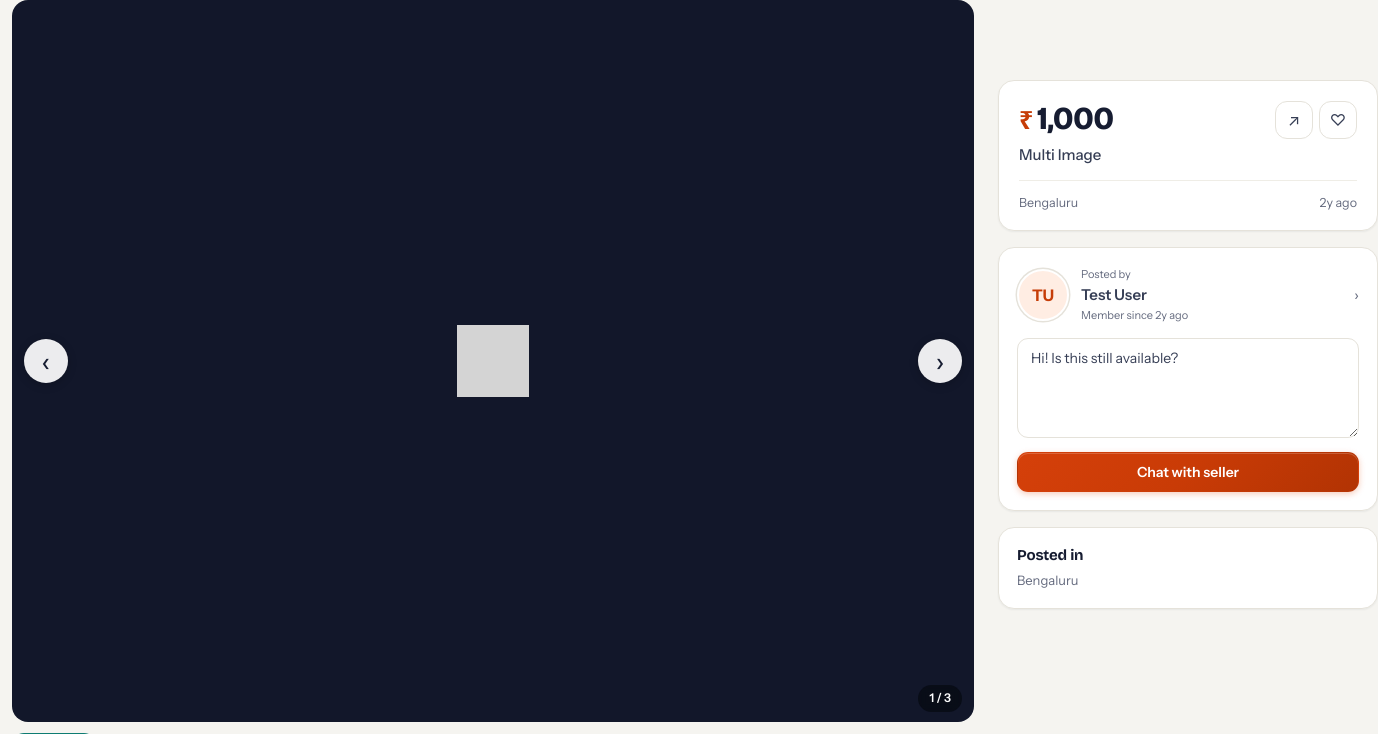
Scenario: ListingDetails › gallery prev/next controls change the active image
Expected: the text "Multi Image" is shown, [1019,145,1101,164]
Expected: the text "1 / 3" is shown, [918,685,962,712]
Click the button named "Next image" at x=940, y=361, box [918,339,962,383]
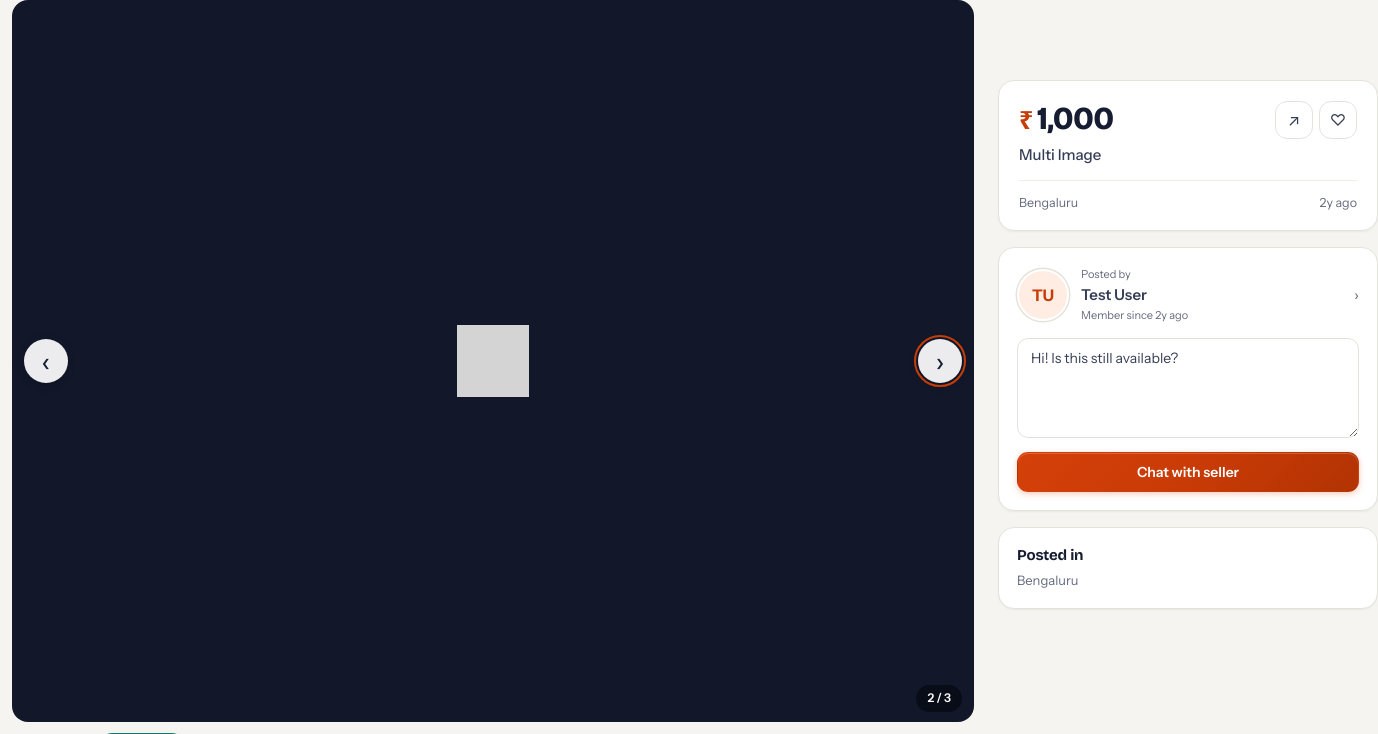
Expected: the text "2 / 3" is shown, [916,685,962,712]
Click the button named "Previous image" at x=46, y=361, box [24,339,68,383]
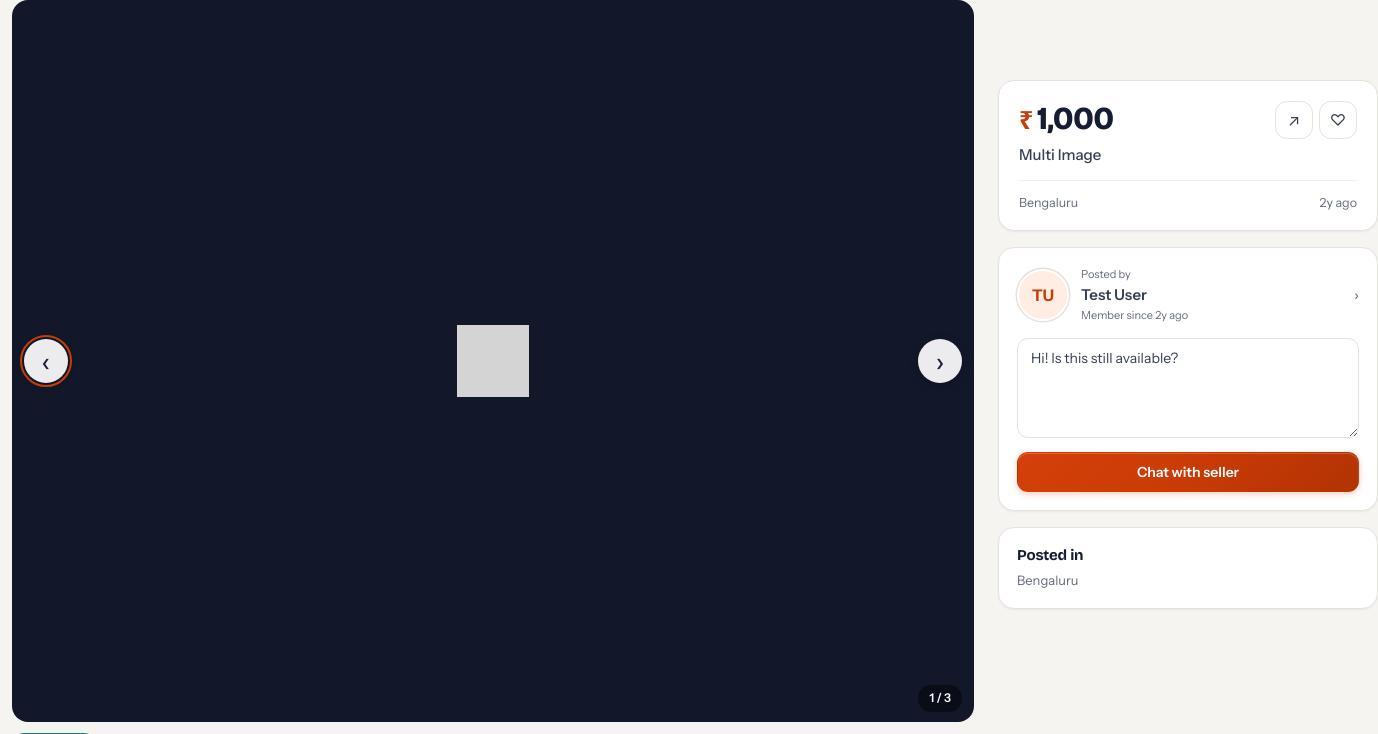
Expected: the text "1 / 3" is shown, [918,685,962,712]
Note: wraps around backwards to last image
Click the button named "Previous image" at x=46, y=361, box [24,339,68,383]
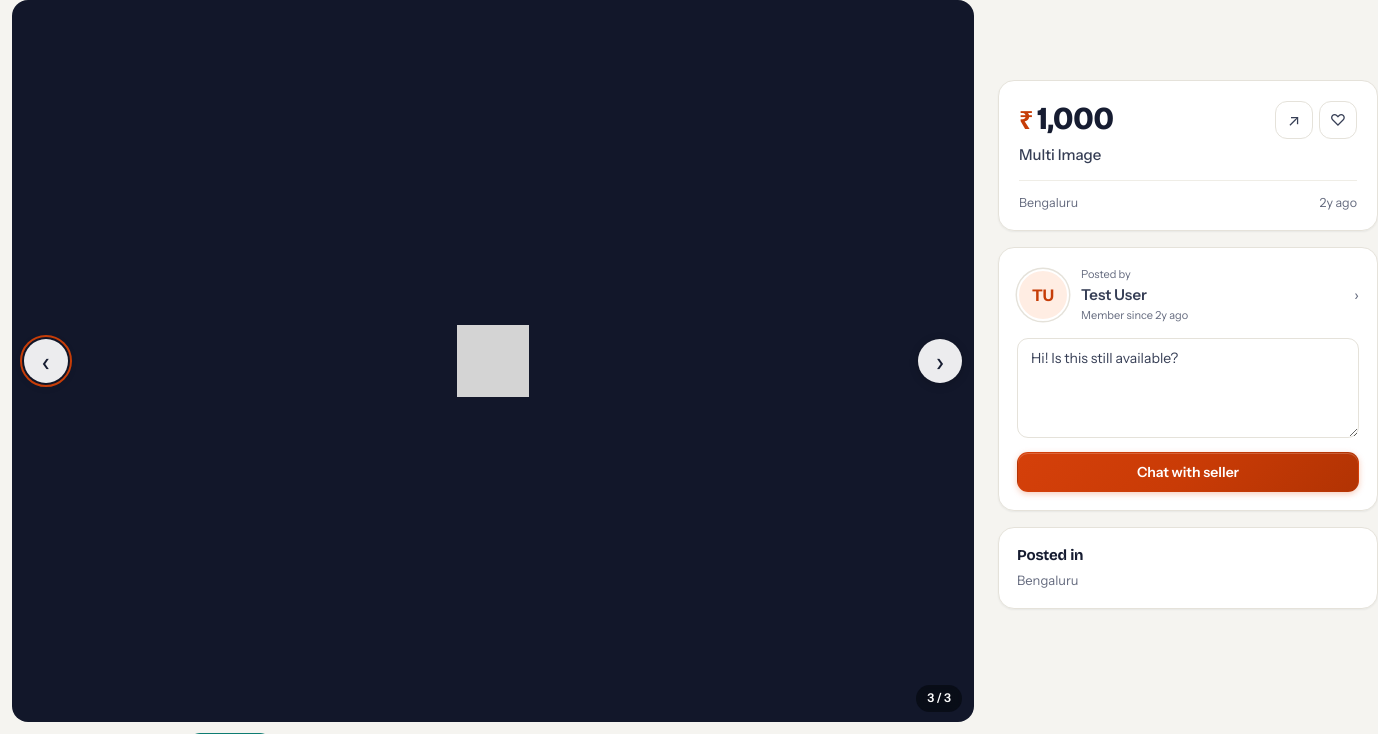
Expected: the text "3 / 3" is shown, [916,685,962,712]
